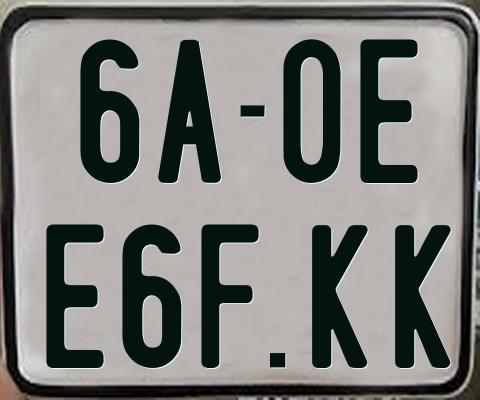0: (283, 36, 347, 185)
6: (78, 37, 142, 181), (122, 222, 181, 372)
A: (157, 40, 226, 189)
E: (45, 222, 107, 369), (359, 39, 419, 187)
F: (199, 221, 261, 368)
K: (312, 224, 369, 371), (392, 224, 449, 371)
